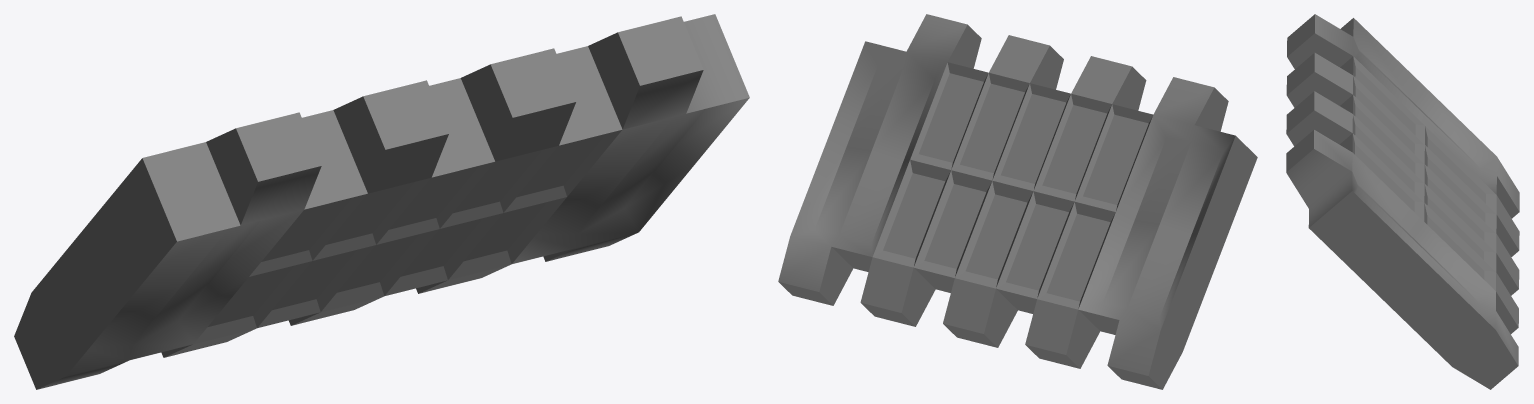
The model's file is t34_85_hull_m2.obj.
The picture shows the model from 3 angles, left to right: view 1: azimuth 30°, elevation 25°; view 2: azimuth 150°, elevation 25°; view 3: azimuth 270°, elevation 25°; orthographic projection. The views are drawn at different scales.
Parts seen in each view (by area): view 1: t34_85_hull_m2; view 2: t34_85_hull_m2; view 3: t34_85_hull_m2.
Boxes of the visible parts, box(x1,y1,x2,y2) form: t34_85_hull_m2: box(14, 14, 749, 389); t34_85_hull_m2: box(778, 14, 1257, 389); t34_85_hull_m2: box(1286, 14, 1519, 389).
Bounding box in the file's own units: 0.4899 × 0.2877 × 0.2724.
Materials: 1 (1 with a texture image).
